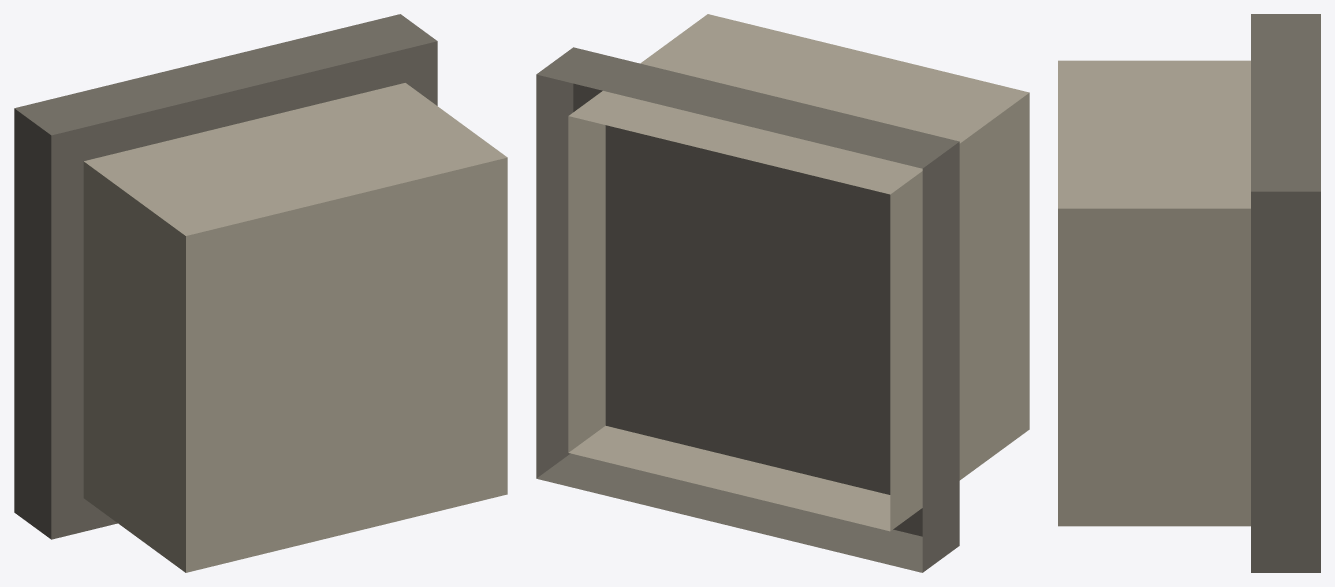
Rendered from construction_2.glb.
3 renders of one model, left to right at view 1: azimuth 30°, elevation 25°; view 2: azimuth 150°, elevation 25°; view 3: azimuth 270°, elevation 25°, orthographic. The views are drawn at different scales.
Parts seen in each view (by area): view 1: c2; view 2: c2; view 3: c2.
Part boxes in pixels (<box>): c2: <box>14,14,507,572</box>; c2: <box>536,14,1029,572</box>; c2: <box>1058,14,1320,572</box>.
Bounding box in the file's own units: 4.8 × 4.8 × 3.
